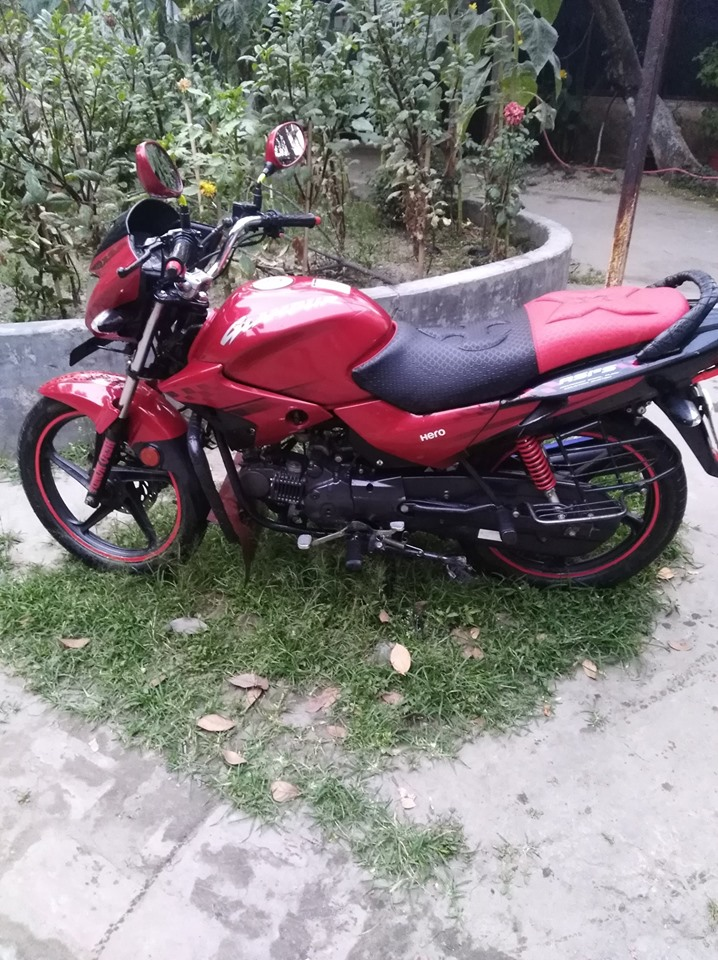bike: (17, 122, 718, 609)
